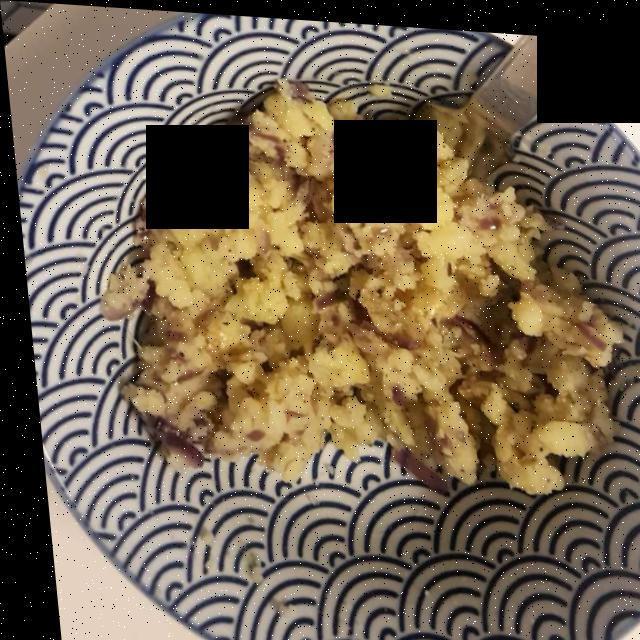potatoes-steamed: (113, 86, 607, 484)
